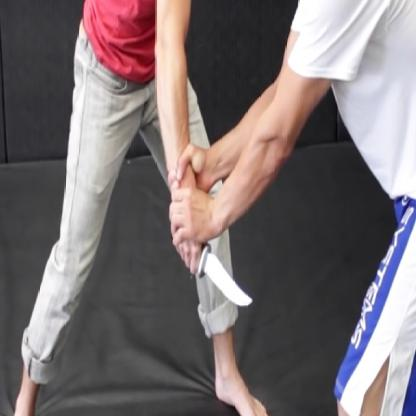knife: (168, 239, 259, 313)
